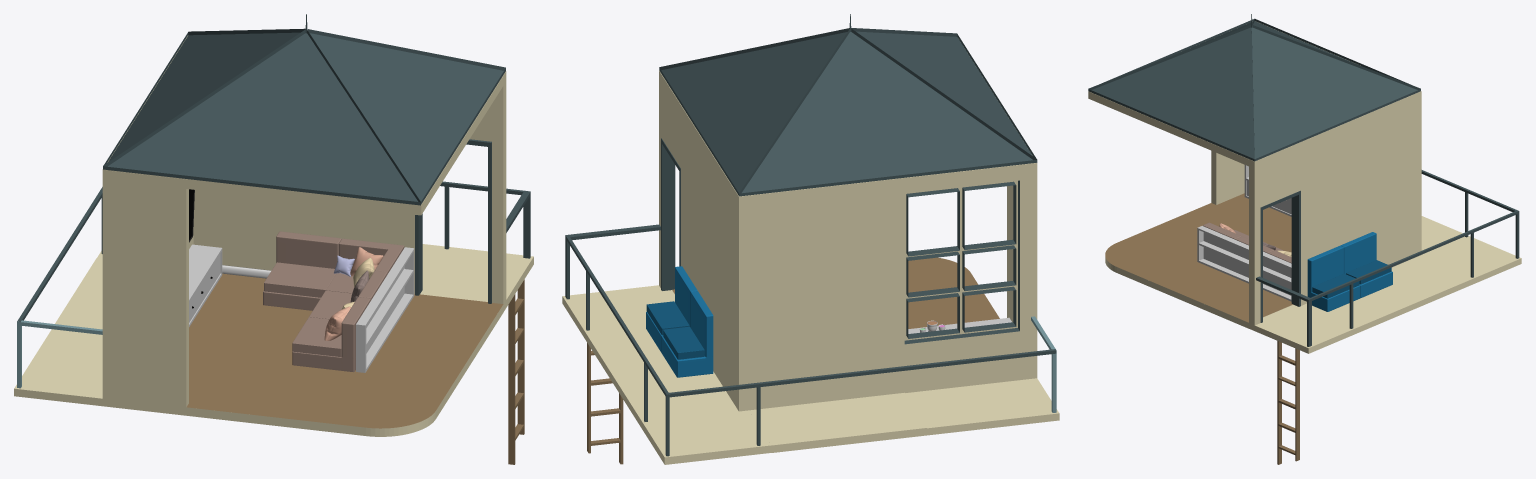
The model's file is portfolio_v2_room_top.glb.
3 renders of one model, left to right at view 1: azimuth 30°, elevation 25°; view 2: azimuth 150°, elevation 25°; view 3: azimuth 270°, elevation 25°, orthographic. The views are drawn at different scales.
Parts seen in each view (by area): view 1: Cube, Wall.002, Walll.002, Plane, Walll.005, Cube.138, Table.002, Cube.136, Table.004, Cube.139, Table.007, Cube.134 (+2 smaller); view 2: Wall.002, Cube, Walll.002, Cube.010, Sofa.003, Cube.008, Cube.009, Plane; view 3: Walll.002, Cube, Wall.002, Sofa.003, Table.002, Cube.010, Plane, Table.007, Walll.005, Cube.009, Cube.008.
Part boxes in pixels (x1,y1,x2,y2): Cube: (103, 14, 505, 205); Wall.002: (14, 179, 503, 436); Walll.002: (17, 36, 533, 464); Plane: (104, 170, 188, 413); Walll.005: (102, 41, 503, 215); Cube.138: (263, 231, 341, 310); Table.002: (356, 268, 414, 372); Cube.136: (264, 262, 335, 297); Table.004: (189, 244, 222, 326); Cube.139: (292, 297, 370, 372); Table.007: (356, 247, 414, 347); Cube.134: (292, 317, 341, 356); Wall.002: (672, 163, 1059, 452); Cube: (659, 14, 1037, 196); Walll.002: (562, 70, 1056, 464); Cube.010: (661, 291, 713, 377); Sofa.003: (646, 266, 697, 352); Cube.008: (663, 326, 704, 359); Cube.009: (646, 301, 689, 335); Plane: (1007, 185, 1013, 322); Walll.002: (1249, 91, 1521, 464); Cube: (1088, 14, 1420, 161); Wall.002: (1105, 193, 1461, 328); Sofa.003: (1307, 246, 1359, 311); Table.002: (1197, 241, 1291, 301); Cube.010: (1340, 232, 1392, 298); Plane: (1211, 151, 1244, 204); Table.007: (1197, 226, 1291, 283); Walll.005: (1088, 24, 1360, 166); Cube.009: (1312, 273, 1359, 298); Cube.008: (1346, 260, 1391, 284).
Bounding box in the file's own units: 14.2 × 13.42 × 14.2.
